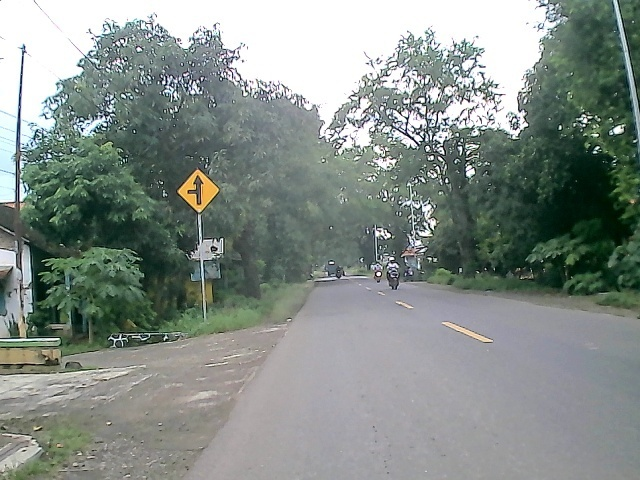Simpang kiri dengan prioritas: (174, 166, 219, 215)
